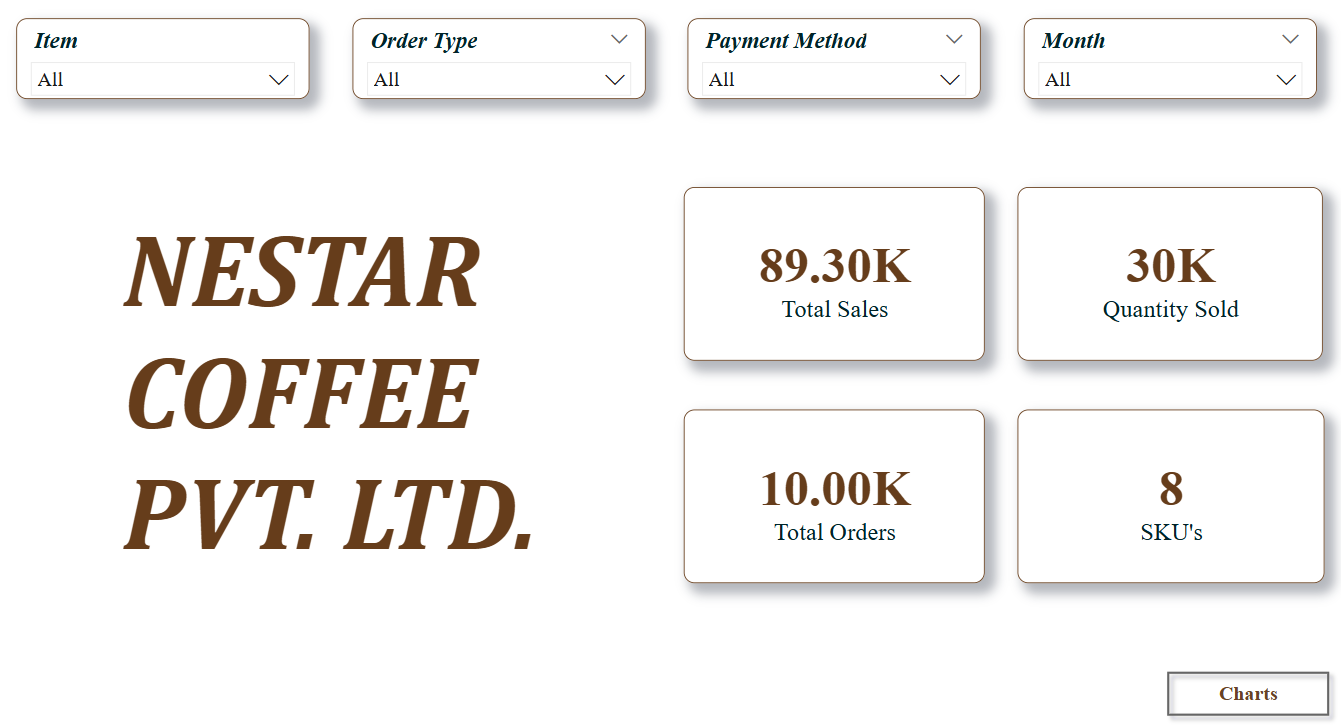

This screenshot's page, from the dashboard's own definition file:
{"tool":"powerbi","page":{"name":"Home","canvas":[1280,720],"ordinal":0},"visuals":[{"type":"card","fields":{"Values":["Sum(cleaned_transactions.Total Spent)"]},"box":[650,199.9,279.9,161.9],"z":0},{"type":"card","fields":{"Values":["Count(cleaned_transactions.Item)"]},"box":[960.1,407.1,285.4,161.9],"z":1000},{"type":"card","fields":{"Values":["Sum(cleaned_transactions.Quantity)"]},"box":[960.1,199.9,284,161.9],"z":2000},{"type":"card","fields":{"Values":["Count(cleaned_transactions.Transaction ID)"]},"box":[650,407.1,279.9,161.9],"z":3000},{"type":"slicer","fields":{"Values":["cleaned_transactions.Item"]},"box":[29.1,43.2,273.1,75.5],"z":4000},{"type":"slicer","fields":{"Values":["cleaned_transactions.Payment Method"]},"box":[653.4,43.2,273.1,75.5],"z":5000},{"type":"slicer","fields":{"Values":["cleaned_transactions.Location"]},"box":[341.9,43.2,273.1,75.5],"z":6000},{"type":"slicer","fields":{"Values":["cleaned_transactions.Transaction Date.Variation.Date Hierarchy.Month"]},"box":[966.3,43.2,273.1,75.5],"z":7000},{"type":"textbox","box":[123.3,215.1,464,353.5],"z":8000},{"type":"actionButton","box":[1090.9,642.2,168.8,59],"z":9000}]}

Visuals, with their boxes on the page's 1280x720 design canvas (x1, y1, x2, y2). These are canvas units, not pixel positions in the 1341x728 screenshot, which may show the page scaled, cropped or inside an application window:
card - Sum(cleaned_transactions.Total Spent): bbox=[650, 200, 930, 362]
card - Count(cleaned_transactions.Item): bbox=[960, 407, 1246, 569]
card - Sum(cleaned_transactions.Quantity): bbox=[960, 200, 1244, 362]
card - Count(cleaned_transactions.Transaction ID): bbox=[650, 407, 930, 569]
slicer - cleaned_transactions.Item: bbox=[29, 43, 302, 119]
slicer - cleaned_transactions.Payment Method: bbox=[653, 43, 926, 119]
slicer - cleaned_transactions.Location: bbox=[342, 43, 615, 119]
slicer - cleaned_transactions.Transaction Date.Variation.Date Hierarchy.Month: bbox=[966, 43, 1239, 119]
textbox: bbox=[123, 215, 587, 569]
actionButton: bbox=[1091, 642, 1260, 701]
